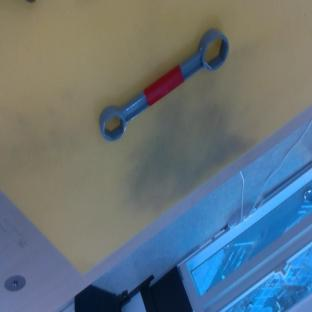part_3_good: (88, 24, 238, 145)
